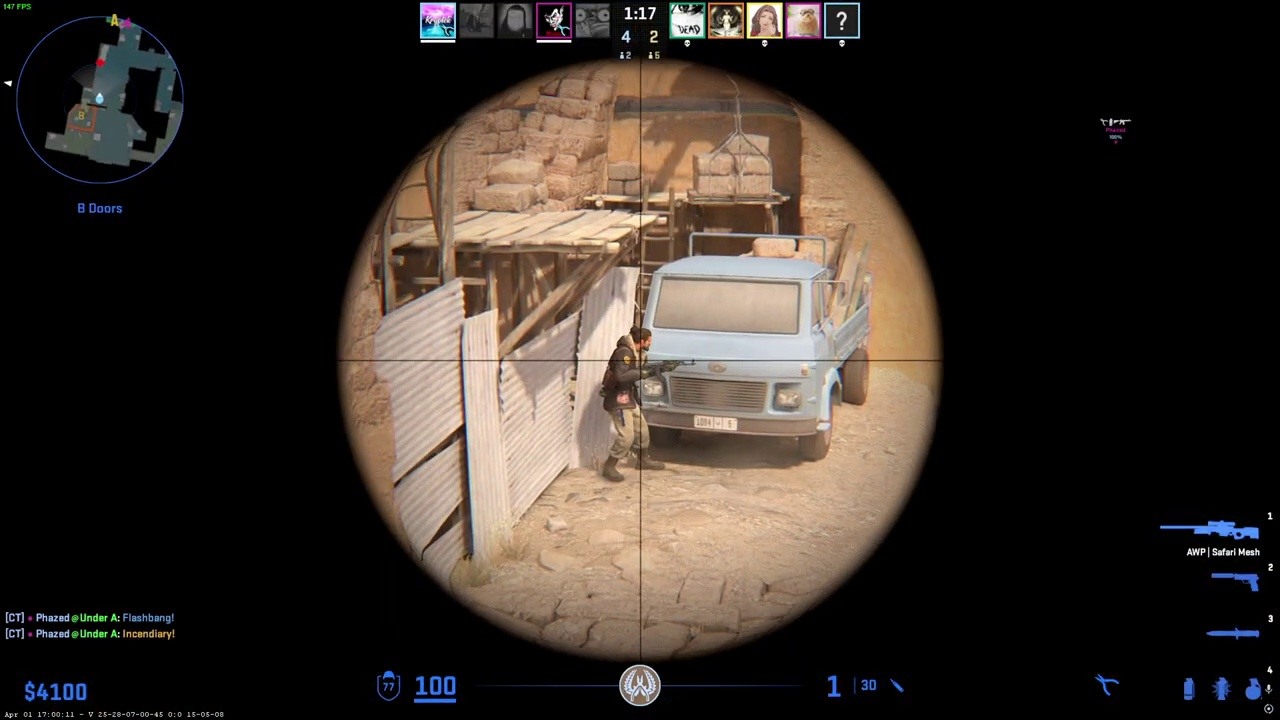Terrorist: (602, 326, 662, 482)
